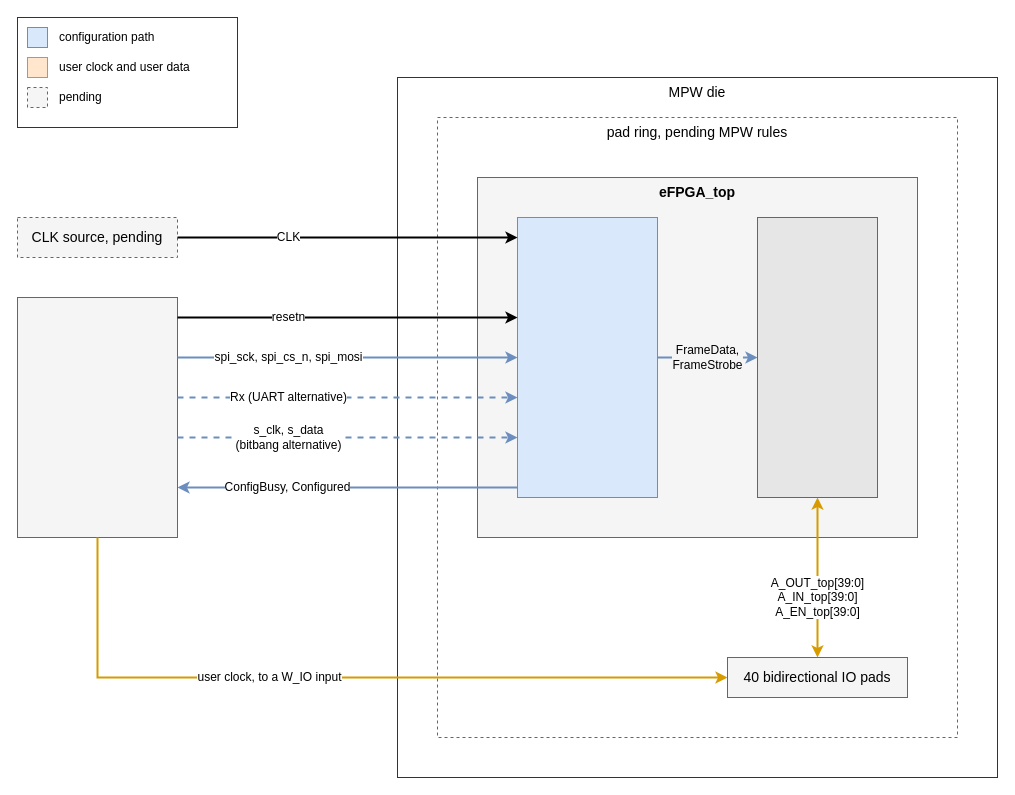
This 1015x795 diagram has some shape labels left out. Each missing label, with the centre of its shape:
configuration controller (config_frontend, fabric_config): pixel 587 357
eFPGA 13 × 12 tiles: pixel 817 357
Raspberry Pi Pico MicroPython: pixel 97 417
